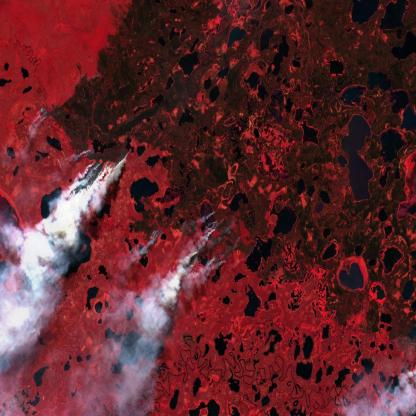fire: (29, 102, 136, 215), (170, 197, 268, 286), (140, 219, 167, 258)
